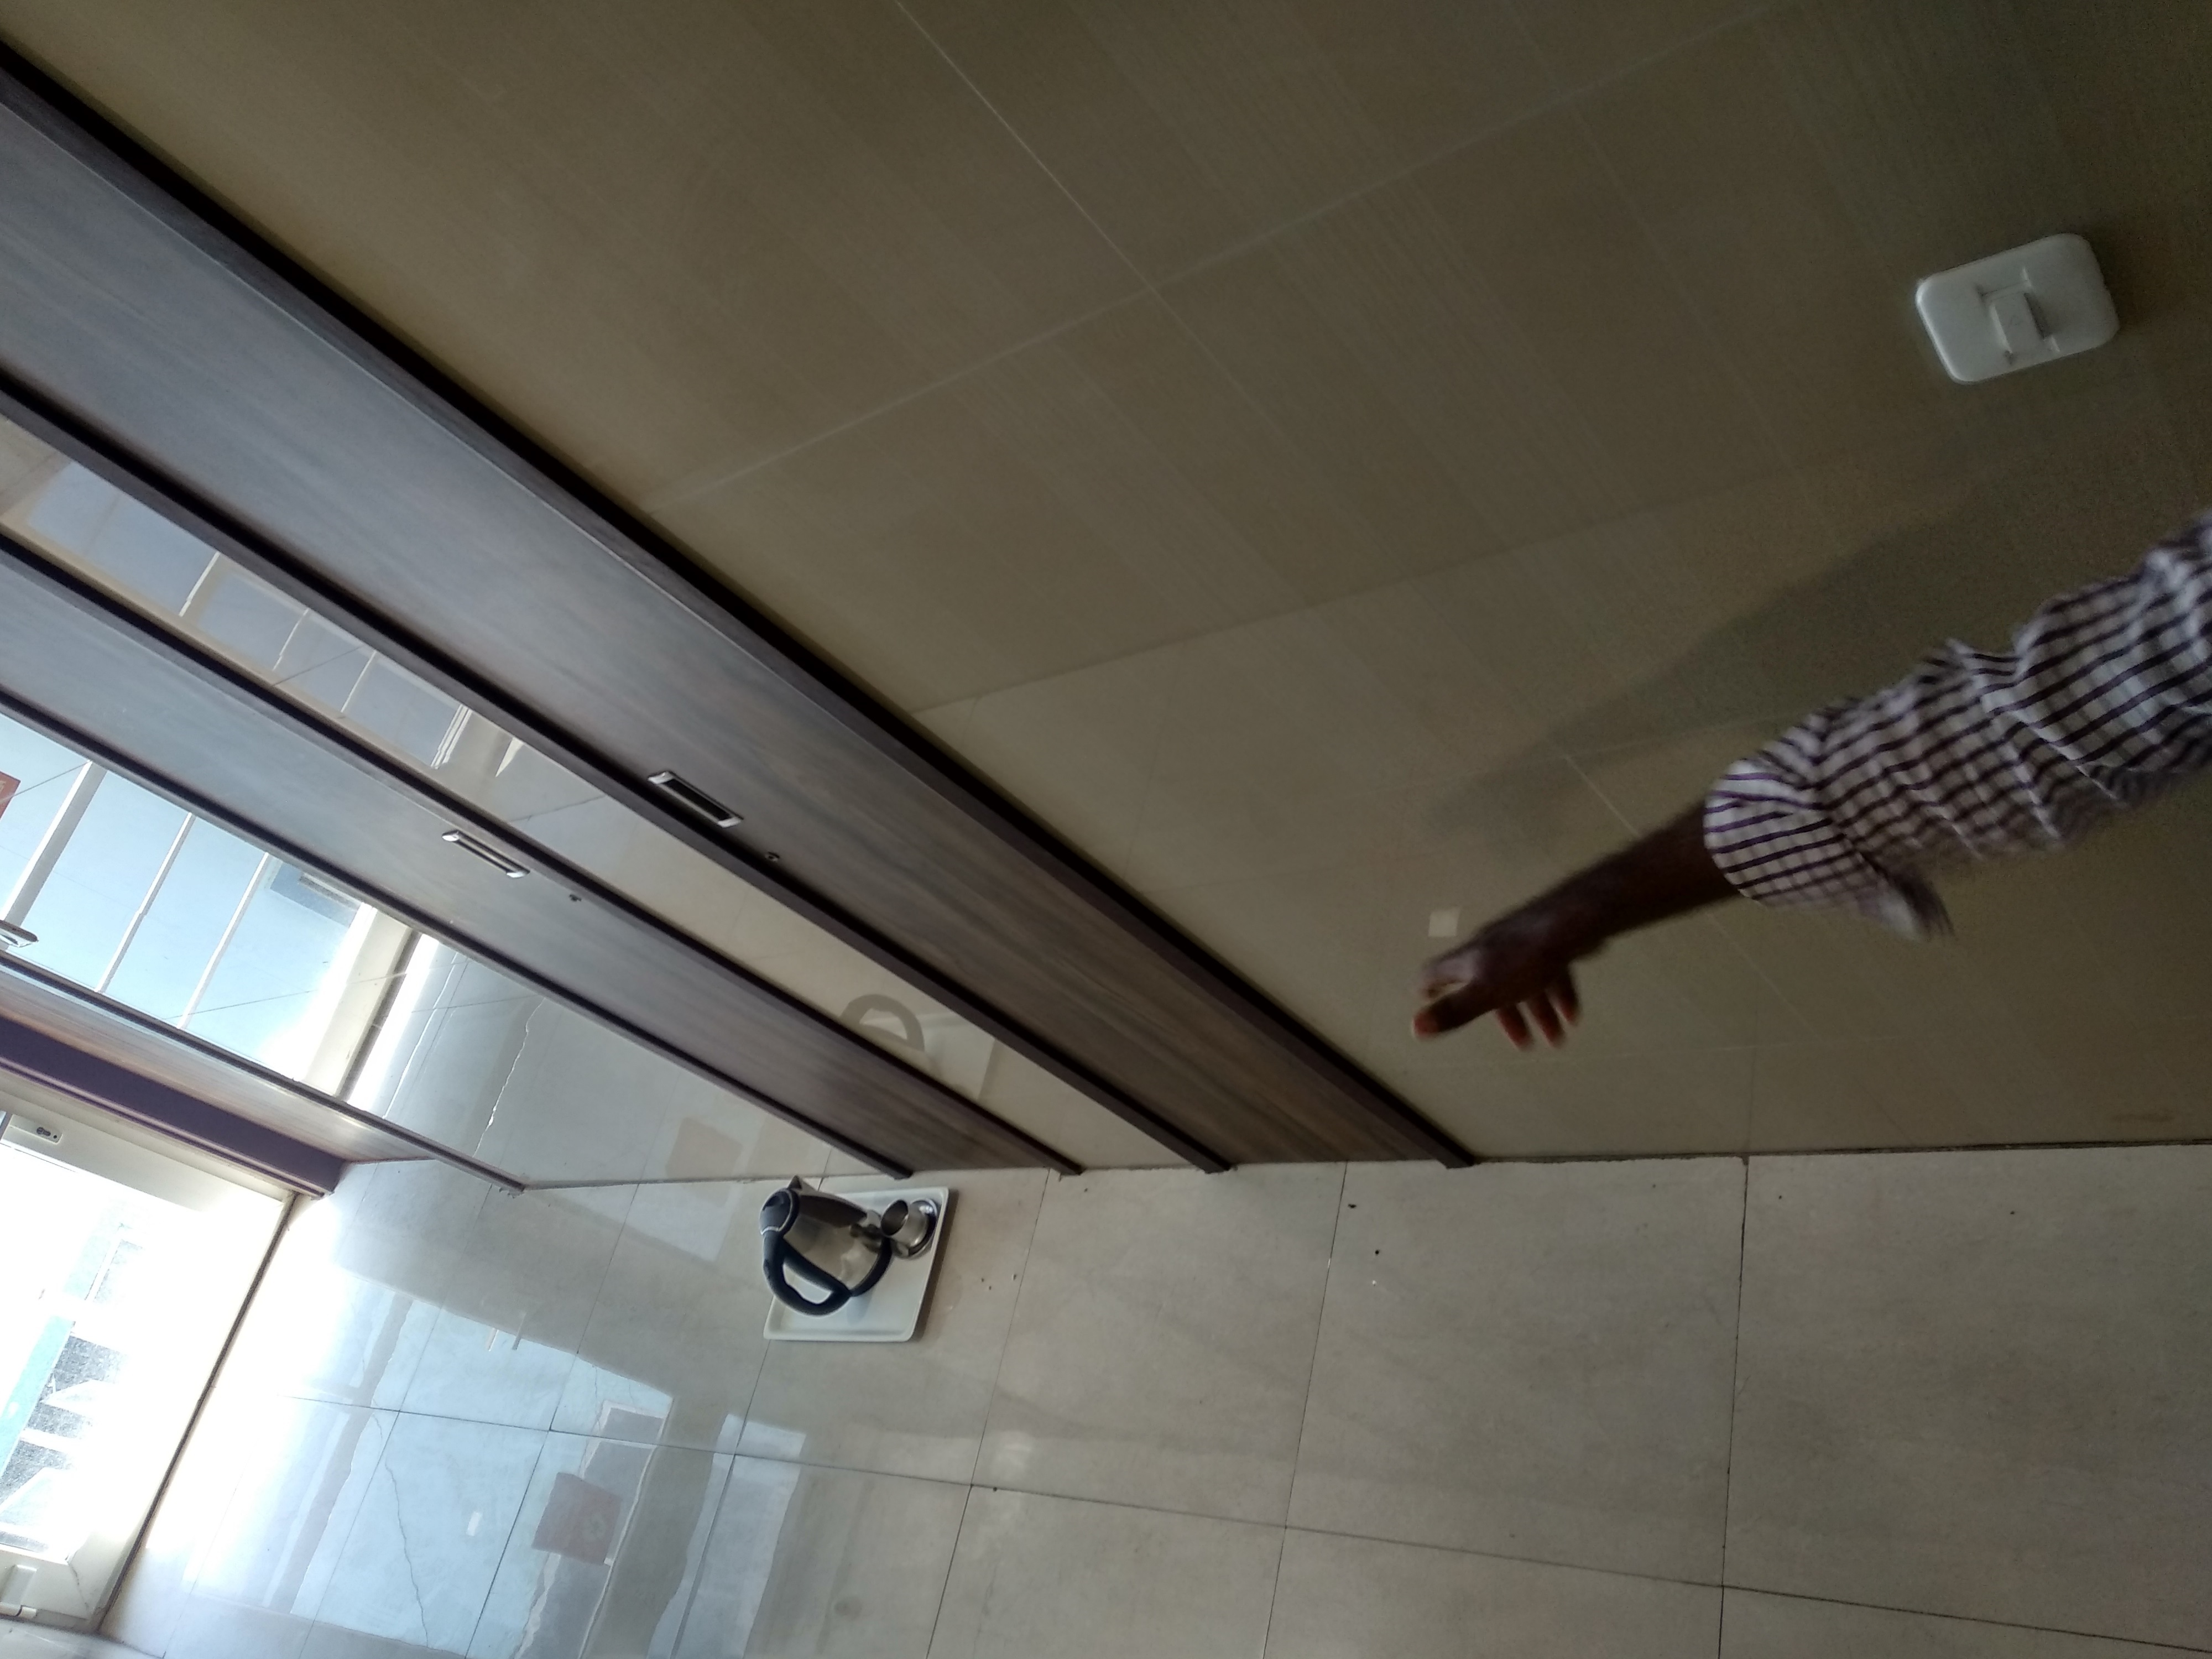CUP: (883, 1190, 939, 1256)
FLASK: (752, 1176, 876, 1316)
